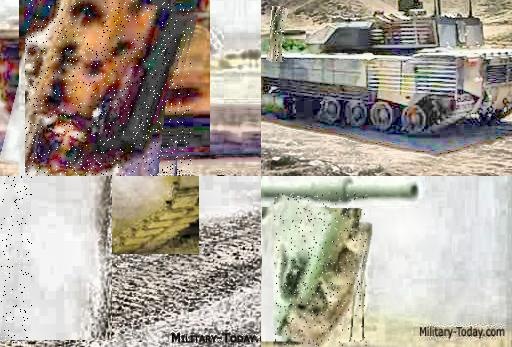tanks: (262, 1, 512, 136), (27, 1, 193, 177), (275, 194, 367, 347), (262, 181, 419, 203), (272, 8, 285, 62)
